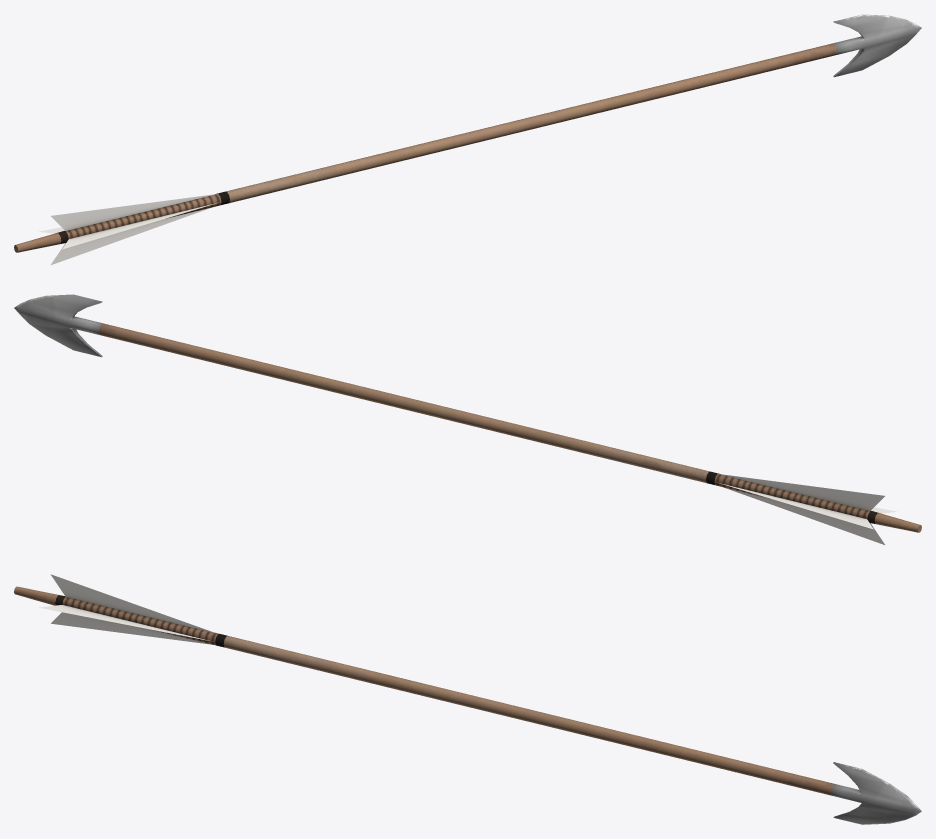
File: Arrow.fbx
The picture shows the model from 3 angles, top to bottom: view 1: azimuth 30°, elevation 25°; view 2: azimuth 150°, elevation 25°; view 3: azimuth 330°, elevation 25°; orthographic projection.
Parts seen in each view (by area): view 1: Arrow; view 2: Arrow; view 3: Arrow.
Part boxes in pixels (bbox=[...]): Arrow: bbox=[14, 14, 921, 264]; Arrow: bbox=[14, 294, 921, 544]; Arrow: bbox=[14, 574, 921, 824].
Size of the model in its own units: 56.65 by 3.34 by 2.62.
